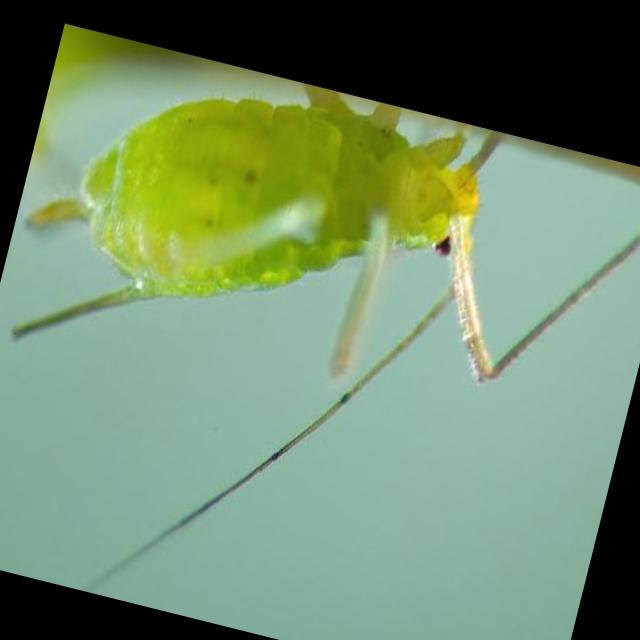Aphids: (0, 24, 636, 550)
